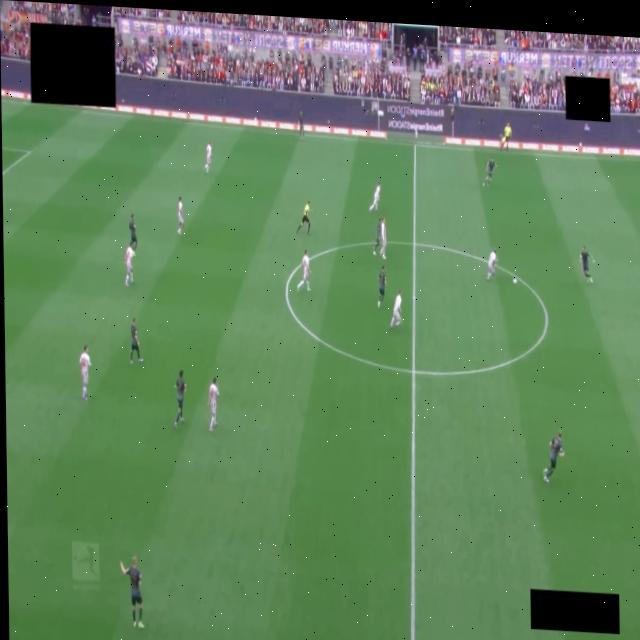ball: (513, 278, 517, 284)
player: (120, 557, 143, 628), (543, 431, 563, 482), (80, 345, 91, 402), (174, 370, 185, 427), (129, 319, 141, 364), (208, 378, 218, 430), (579, 246, 593, 282), (297, 250, 309, 291), (389, 291, 400, 327), (482, 157, 495, 187), (377, 265, 386, 307), (125, 245, 134, 286), (369, 182, 380, 212), (373, 218, 381, 254), (129, 215, 137, 250), (487, 249, 495, 280), (177, 197, 183, 234), (204, 141, 211, 172), (380, 219, 385, 260), (298, 112, 303, 140)
referee: (296, 201, 310, 234)
